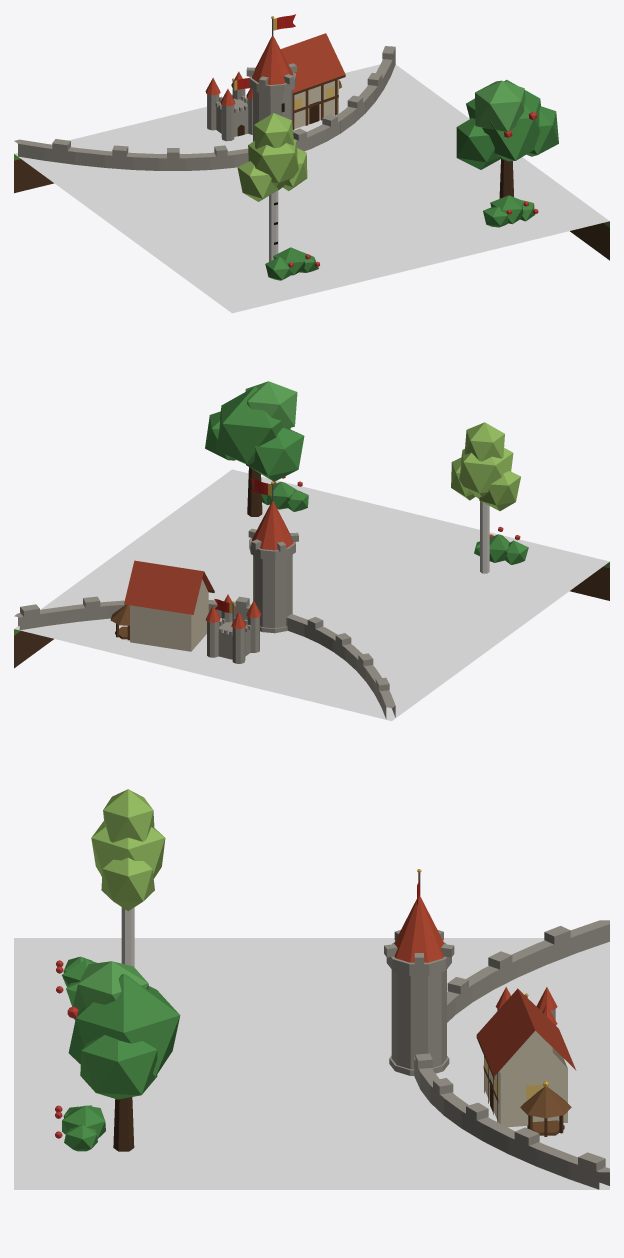
File: xcrff.glb
3 views of the same model, one above another, from view 1: azimuth 30°, elevation 25°; view 2: azimuth 150°, elevation 25°; view 3: azimuth 270°, elevation 25° (orthographic). The views are drawn at different scales.
Visible parts, largest first — view 1: xcrff; view 2: xcrff; view 3: xcrff.
Part boxes in pixels (x1,y1,x2,y2): xcrff: [14, 14, 609, 313]; xcrff: [14, 381, 609, 721]; xcrff: [14, 789, 609, 1189].
Bounding box in the file's own units: 2 × 0.9567 × 2.
